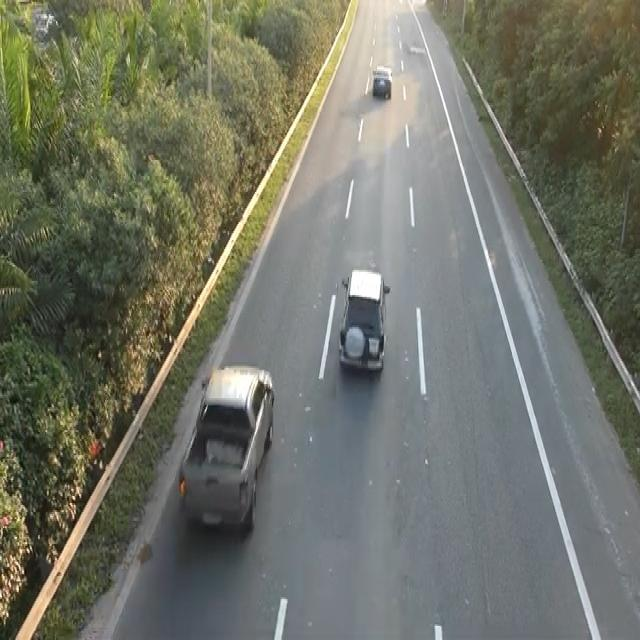car: (176, 359, 276, 535), (336, 265, 391, 375)
